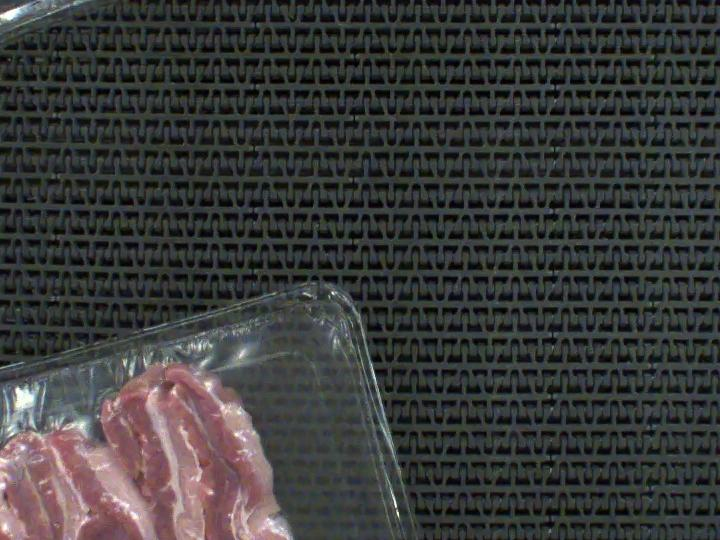unsealed: (0, 341, 318, 540)
